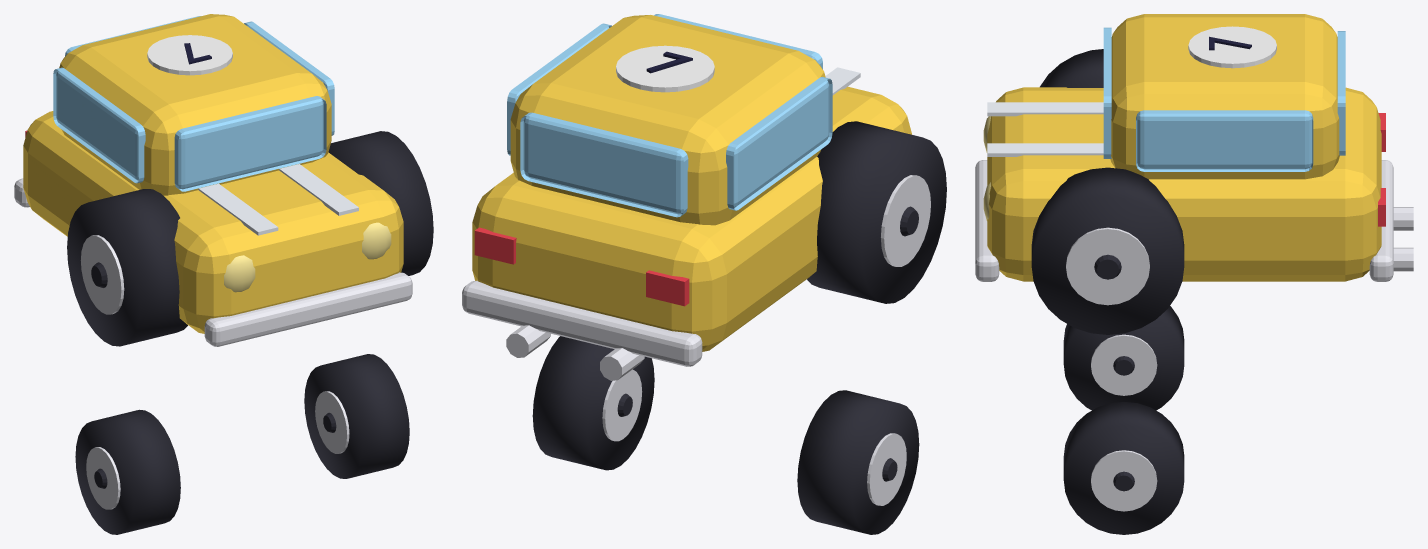
Rendered from Car_Hopper.fbx.
3 renders of one model, left to right at view 1: azimuth 30°, elevation 25°; view 2: azimuth 150°, elevation 25°; view 3: azimuth 270°, elevation 25°, orthographic. The views are drawn at different scales.
Parts seen in each view (by area): view 1: Car_Hopper, Wheel_RL, Wheel_FR, Wheel_FL, Wheel_RR; view 2: Car_Hopper, Wheel_RL, Wheel_FL, Wheel_FR; view 3: Car_Hopper, Wheel_RR, Wheel_FR, Wheel_FL, Wheel_RL.
Part boxes in pixels (x1,y1,x2,y2): Car_Hopper: [14, 14, 412, 346]; Wheel_RL: [67, 189, 187, 346]; Wheel_FR: [304, 354, 409, 478]; Wheel_FL: [75, 409, 180, 534]; Wheel_RR: [328, 131, 433, 275]; Car_Hopper: [462, 14, 911, 380]; Wheel_RL: [807, 121, 946, 303]; Wheel_FL: [797, 390, 919, 534]; Wheel_FR: [532, 336, 654, 470]; Car_Hopper: [975, 14, 1413, 281]; Wheel_RR: [1031, 167, 1184, 334]; Wheel_FR: [1063, 402, 1184, 534]; Wheel_FL: [1063, 306, 1184, 410]; Wheel_RL: [1040, 49, 1103, 87].
Size of the model in its own units: 0.9142 by 1.16 by 1.09.
